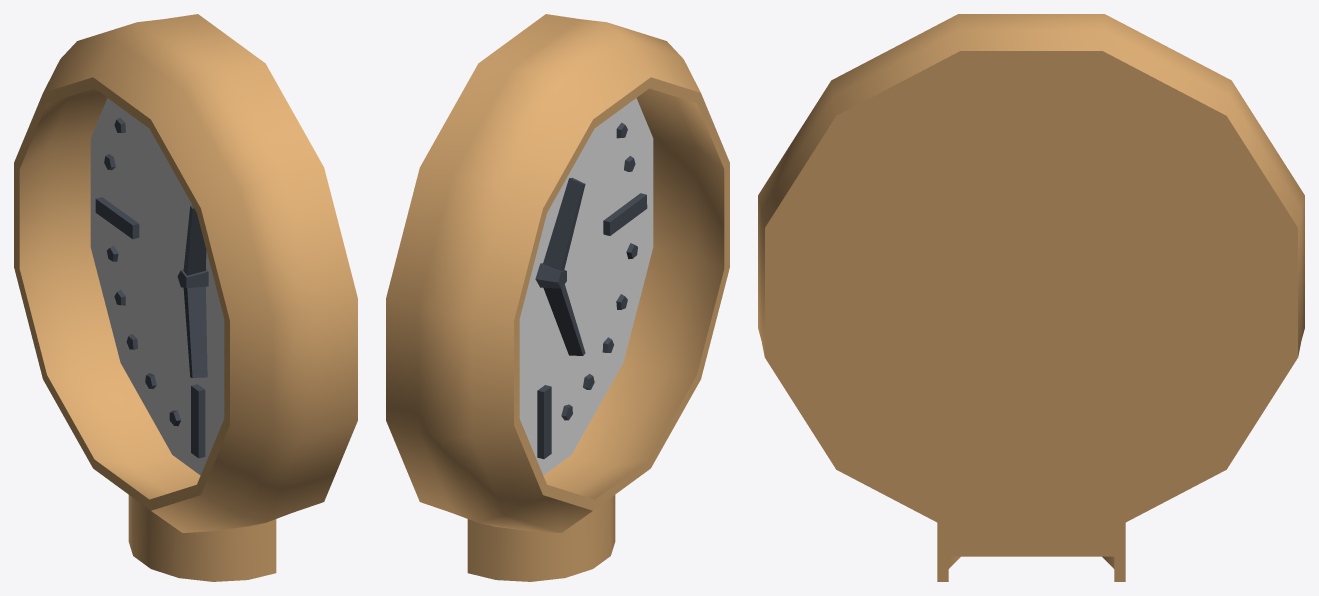
Rendered from Messgerät_01.fbx.
The picture shows the model from 3 angles, left to right: view 1: azimuth 30°, elevation 25°; view 2: azimuth 150°, elevation 25°; view 3: azimuth 270°, elevation 25°; orthographic projection. The views are drawn at different scales.
Parts seen in each view (by area): view 1: Messgerät_01.001; view 2: Messgerät_01.001; view 3: Messgerät_01.001.
Boxes of the visible parts, <box> form: Messgerät_01.001: <box>14,14,357,581</box>; Messgerät_01.001: <box>386,14,729,581</box>; Messgerät_01.001: <box>758,14,1304,581</box>.
Size of the model in its own units: 16.15 by 71.3 by 65.81.
